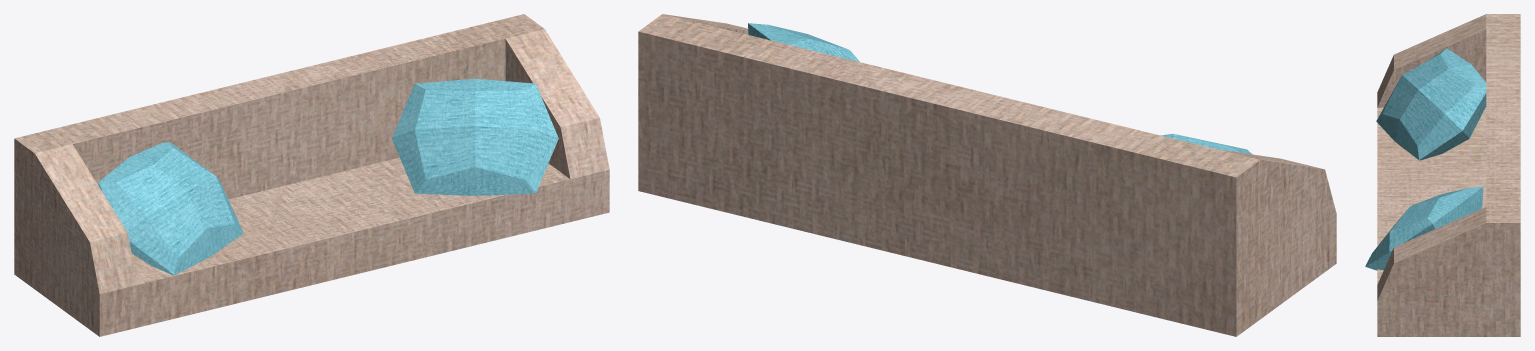
File: Sofá.fbx
3 views of the same model, side by side, from view 1: azimuth 30°, elevation 25°; view 2: azimuth 150°, elevation 25°; view 3: azimuth 270°, elevation 25° (orthographic). The views are drawn at different scales.
Parts seen in each view (by area): view 1: Sofa, Cojin2, Cojin1; view 2: Sofa, Cojin2; view 3: Sofa, Cojin1, Cojin2.
Boxes of the visible parts, bbox=[...] form: Sofa: bbox=[14, 14, 609, 336]; Cojin2: bbox=[392, 78, 558, 195]; Cojin1: bbox=[98, 142, 243, 275]; Sofa: bbox=[638, 14, 1336, 336]; Cojin2: bbox=[748, 23, 859, 61]; Sofa: bbox=[1377, 14, 1520, 336]; Cojin1: bbox=[1376, 48, 1486, 160]; Cojin2: bbox=[1365, 186, 1483, 270].
Size of the model in its own units: 689 by 176 by 217.
2 materials, 2 textured.
